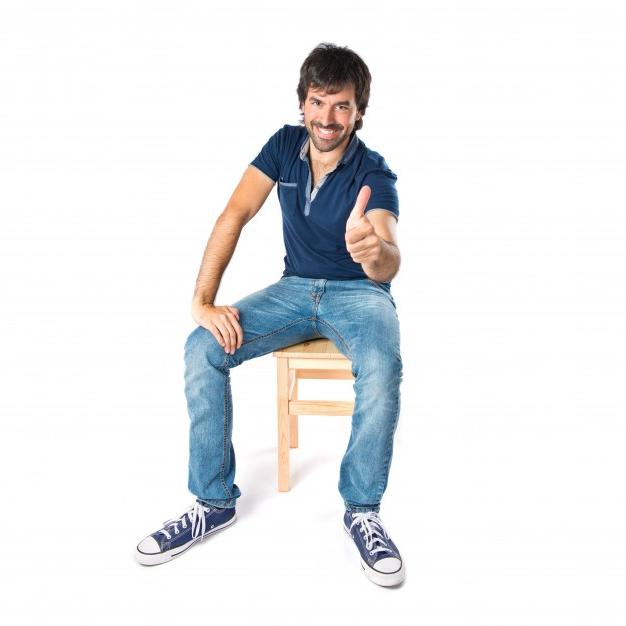thumbsup: (345, 185, 381, 264)
